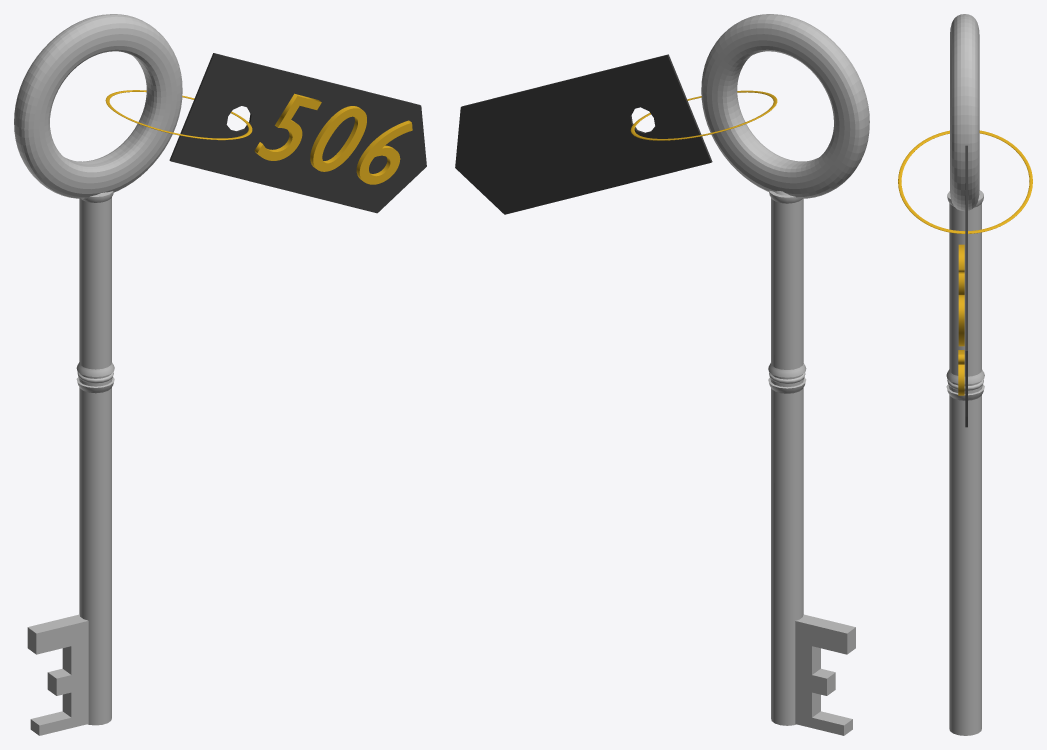
File: key506.fbx
The picture shows the model from 3 angles, left to right: view 1: azimuth 30°, elevation 25°; view 2: azimuth 150°, elevation 25°; view 3: azimuth 270°, elevation 25°; orthographic projection.
Parts seen in each view (by area): view 1: key506; view 2: key506; view 3: key506.
Part boxes in pixels (x1,y1,x2,y2): key506: (14, 14, 426, 735); key506: (455, 14, 869, 735); key506: (898, 14, 1032, 735).
Bounding box in the file's own units: 8.68 × 14.18 × 2.45.
